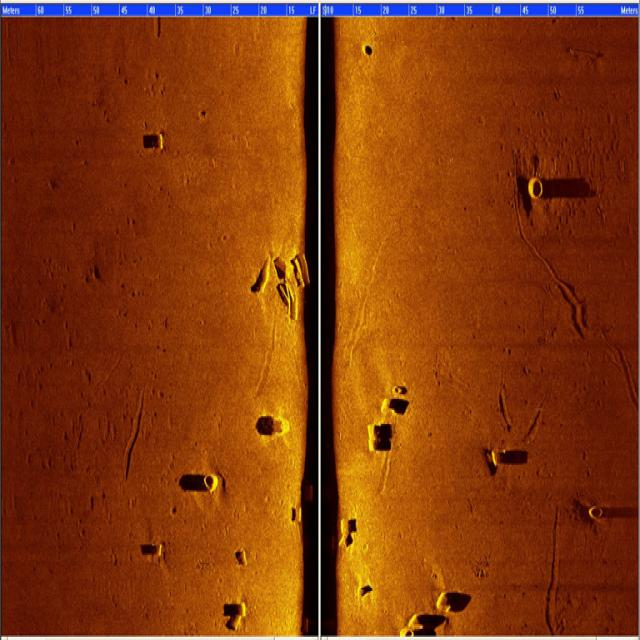other: (250, 241, 312, 322), (262, 405, 291, 442), (358, 418, 382, 456), (521, 169, 549, 200), (380, 380, 406, 411), (398, 608, 424, 637), (201, 462, 221, 496), (335, 512, 350, 555), (230, 596, 250, 627), (153, 126, 169, 155), (586, 499, 603, 526), (488, 435, 502, 467)
